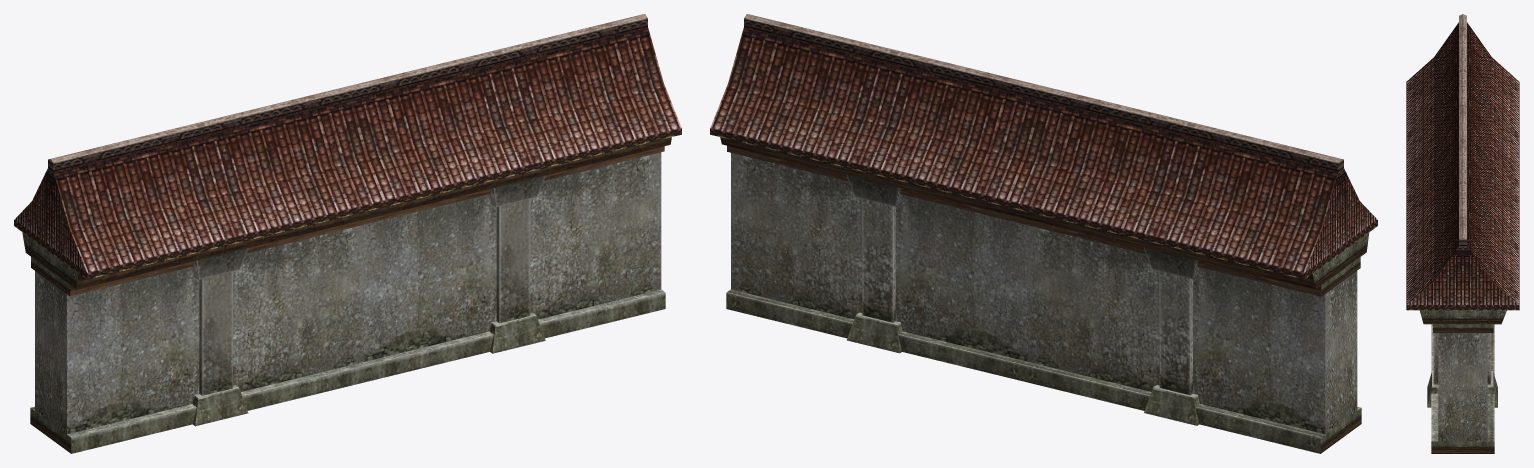
File: a1-038-wall-lin2.fbx
3 views of the same model, side by side, from view 1: azimuth 30°, elevation 25°; view 2: azimuth 150°, elevation 25°; view 3: azimuth 270°, elevation 25° (orthographic). The views are drawn at different scales.
Visible parts, largest first — view 1: b1-038-wall-lin2; view 2: b1-038-wall-lin2; view 3: b1-038-wall-lin2.
Boxes of the visible parts, box(x1,y1,x2,y2) form: b1-038-wall-lin2: box(14, 14, 681, 453); b1-038-wall-lin2: box(710, 14, 1377, 453); b1-038-wall-lin2: box(1406, 14, 1519, 453).
Bounding box in the file's own units: 10 × 4.5 × 2.13.
